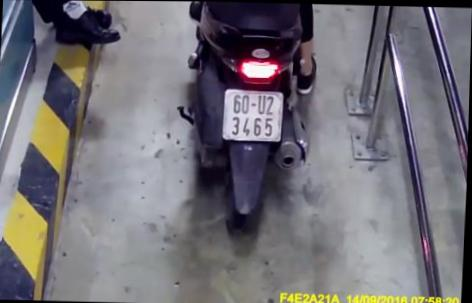LP: (222, 86, 286, 142)
